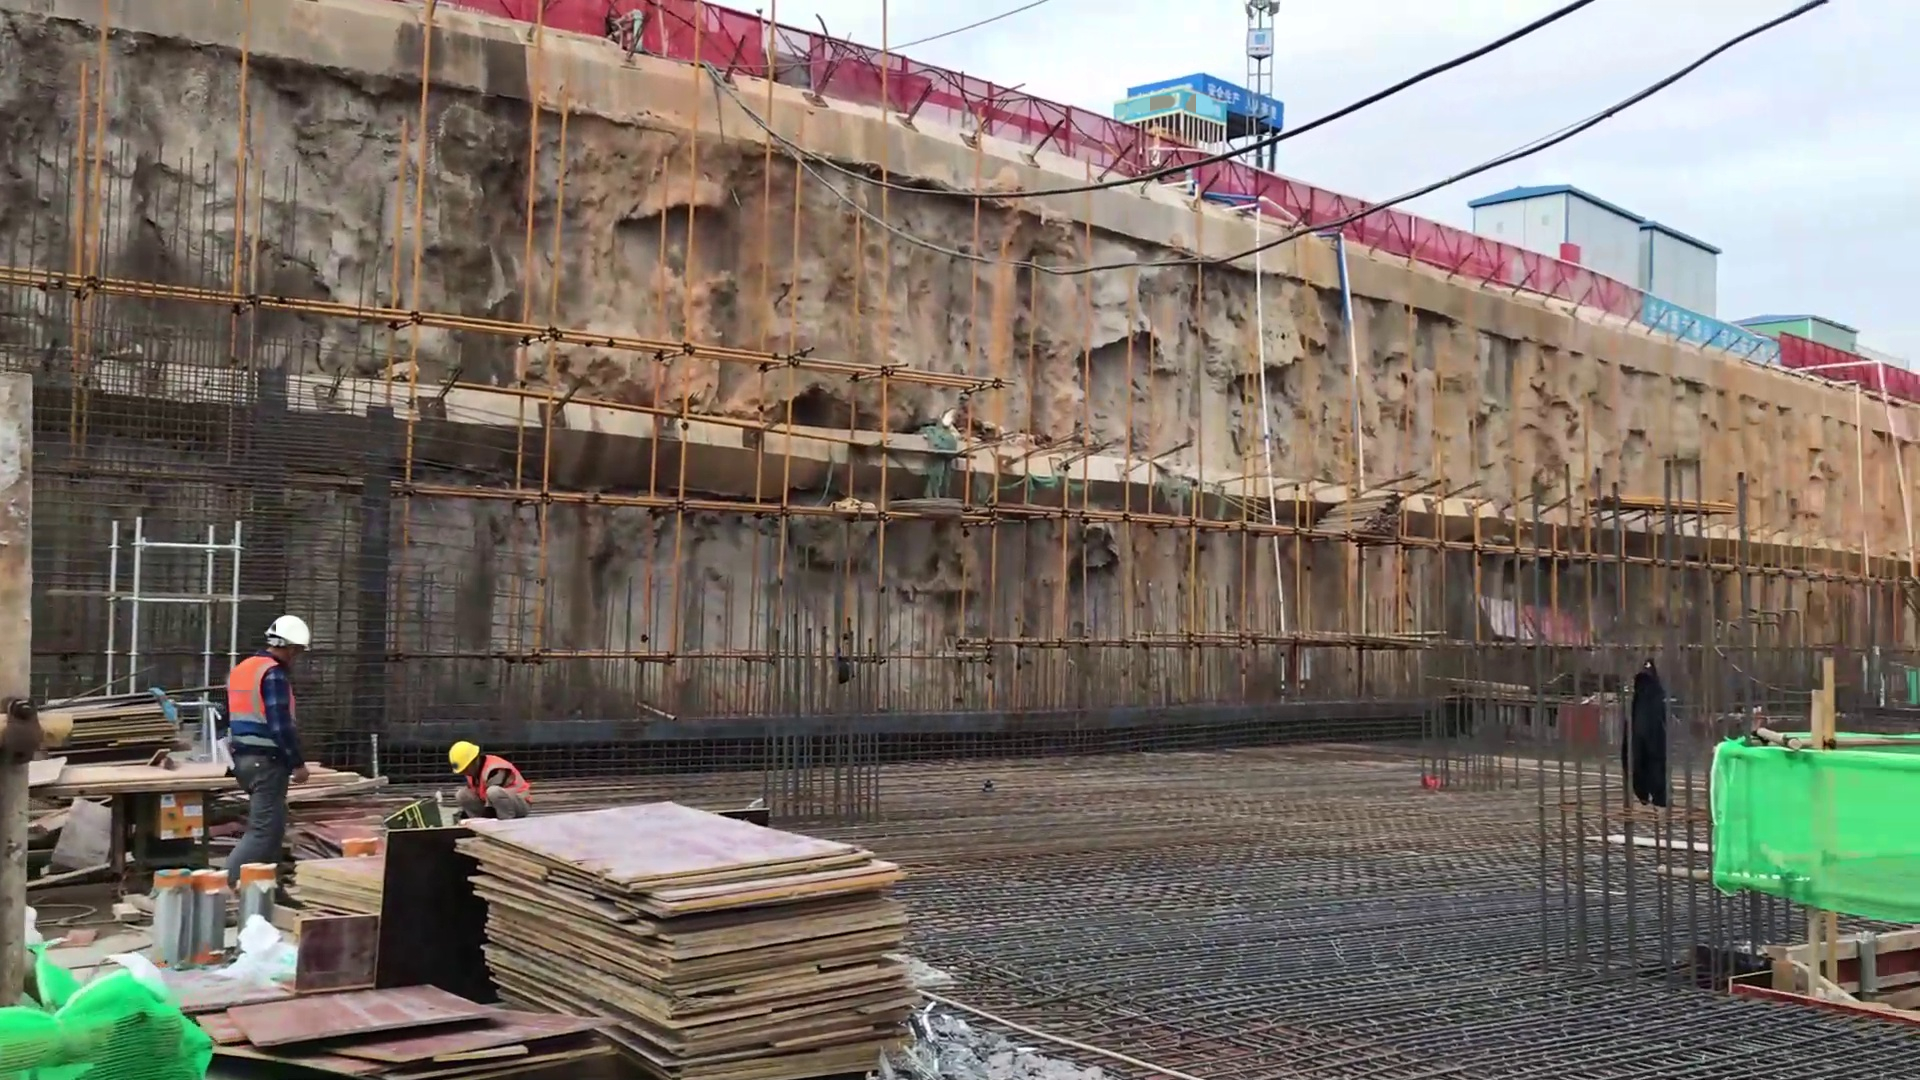board: (451, 793, 931, 1080), (26, 679, 388, 831)
helmet: (264, 610, 311, 649), (446, 734, 479, 773)
person: (218, 611, 316, 915), (444, 738, 535, 831)
slogan: (1636, 299, 1799, 363)
